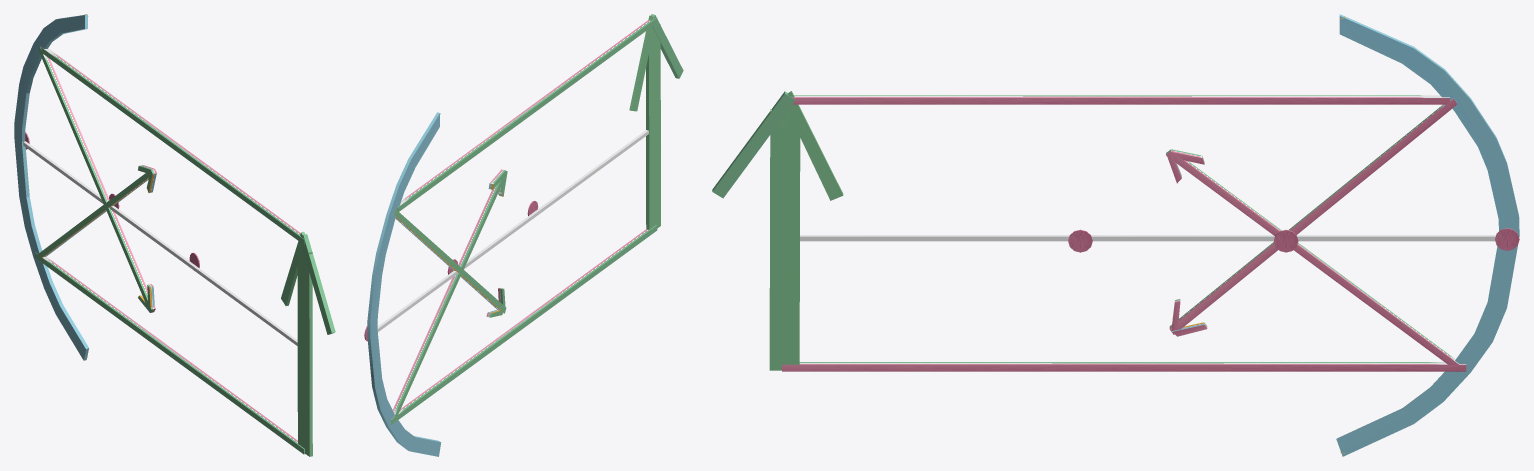
File: case1.fbx
3 renders of one model, left to right at view 1: azimuth 30°, elevation 25°; view 2: azimuth 150°, elevation 25°; view 3: azimuth 270°, elevation 25°, orthographic. The views are drawn at different scales.
Visible parts, largest first — view 1: case1; view 2: case1; view 3: case1.
Part boxes in pixels (x1=…): case1: x1=14, y1=14, x2=335, y2=456; case1: x1=364, y1=14, x2=683, y2=456; case1: x1=712, y1=14, x2=1519, y2=456.
Size of the model in its own units: 1.02 by 38.58 by 63.98.
Materials: 1 (1 with a texture image).
